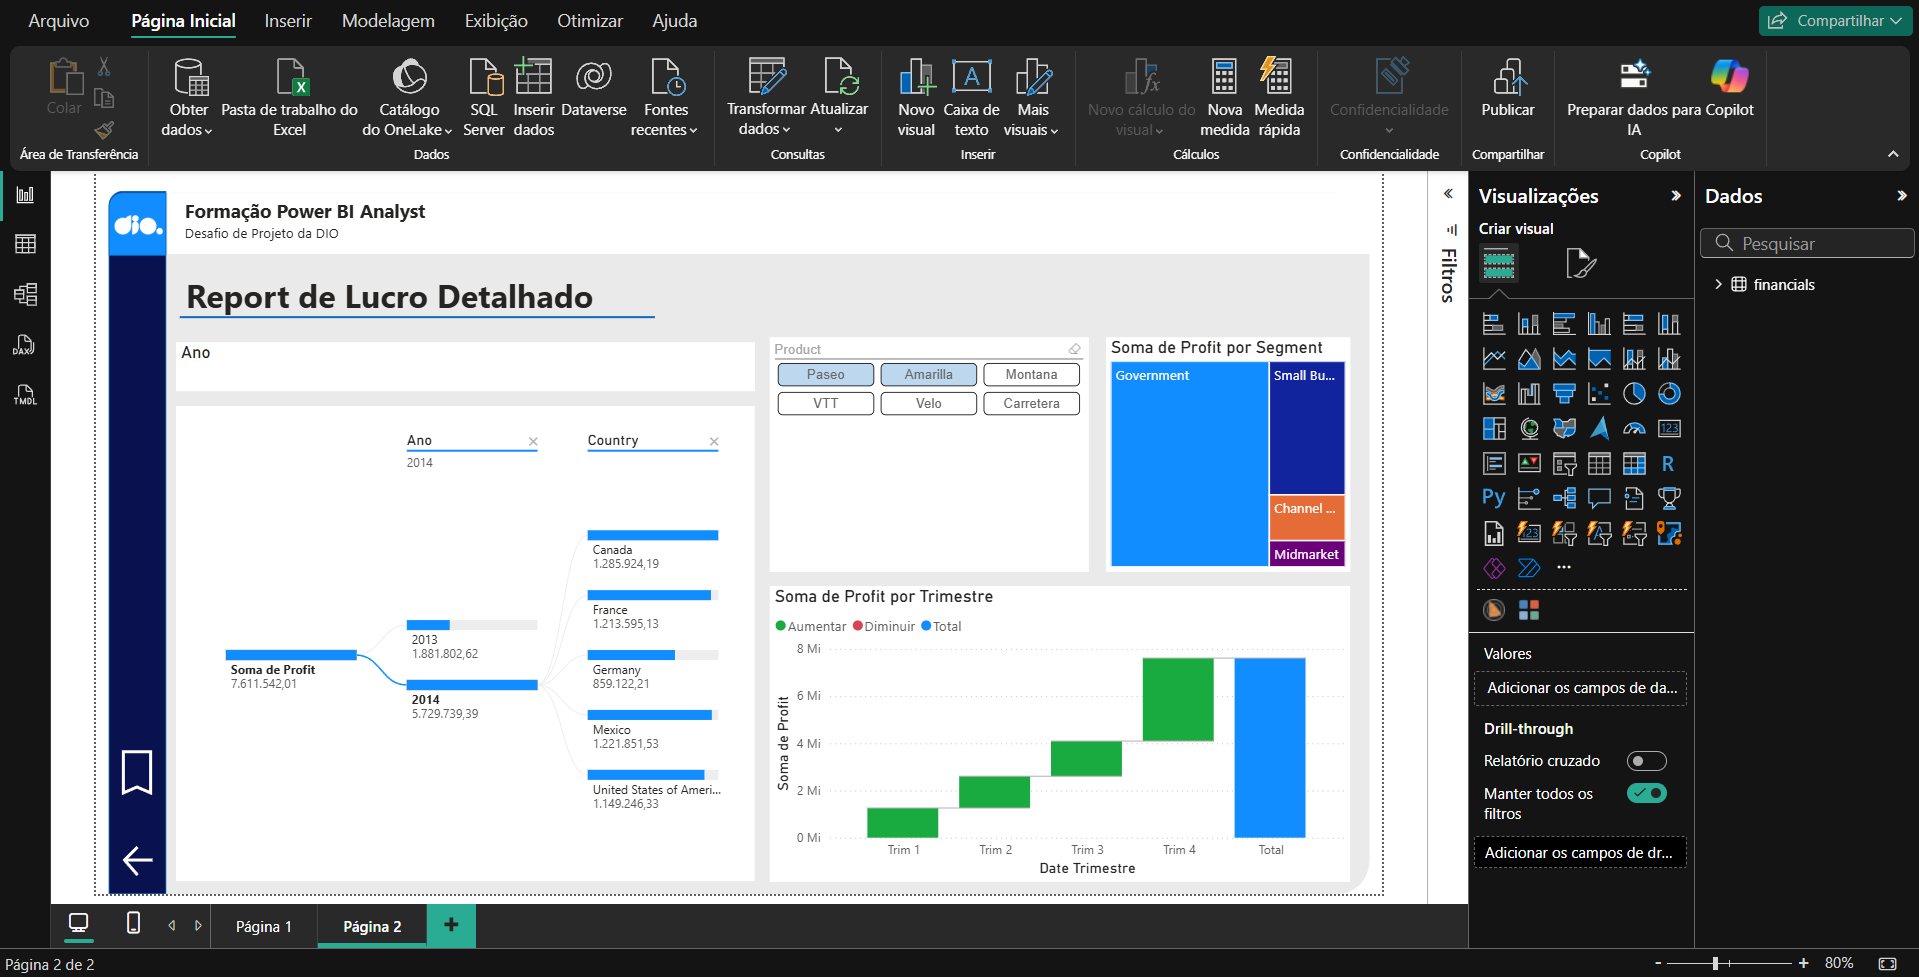

The page's visual inventory and layout, read from the dashboard file:
{"tool":"powerbi","page":{"name":"Página 2","canvas":[1280,720],"ordinal":1},"visuals":[{"type":"shape","box":[42.6,20.7,1225.3,699.3],"z":0},{"type":"shape","box":[83.9,127.8,473,37.1],"z":0,"group":"g1"},{"type":"textbox","box":[85.3,97.6,470.2,52.2],"z":1000,"group":"g1"},{"type":"shape","box":[12.4,20.2,57.7,699.8],"z":1000},{"type":"shape","box":[12.4,20.6,57.7,63.2],"z":2000},{"type":"image","box":[13.7,33,57.7,39.9],"z":3000},{"type":"shape","title":"Fundo do Título","box":[71.5,20.6,1198.9,61.9],"z":4000},{"type":"textbox","title":"Título do report","box":[83.9,22,378.1,63.2],"z":5000},{"type":"shape","box":[79.7,233.7,576.1,473],"z":6000},{"type":"decompositionTreeVisual","fields":{"Analyze":["Sum(financials.Profit)"],"ExplainBy":["financials.Date.Variation.Hierarquia de datas.Ano","financials.Country"]},"box":[99.8,242.2,536.3,456.5],"z":7000},{"type":"waterfallChart","fields":{"Category":["financials.Date.Variation.Hierarquia de datas.Trimestre"],"Y":["Sum(financials.Profit)"]},"box":[670.9,412.5,577.4,294.2],"z":8000},{"type":"RadarChart1446119667547","fields":{"Category":["financials.Date.Variation.Hierarquia de datas.Ano"]},"box":[79.7,170.5,576.1,48.1],"z":9000},{"type":"ChicletSlicer1448559807354","fields":{"Category":["financials.Product"],"Values":["Sum(financials.Profit)"]},"box":[670.9,165,317.6,233.7],"z":10000},{"type":"treemap","fields":{"Values":["Sum(financials.Profit)"],"Group":["financials.Segment"]},"box":[1005,165,243.4,233.7],"z":11000},{"type":"actionButton","box":[22,666.8,48.1,39.9],"z":12000},{"type":"group","id":"g1","title":"Sales report","box":[83.9,97.6,473,67.4],"z":13000},{"type":"actionButton","box":[12.8,545.8,57,105.5],"z":14000}]}

Visuals, with their boxes on the page's 1280x720 design canvas (x1, y1, x2, y2). These are canvas units, not pixel positions in the 1919x977 screenshot, which may show the page scaled, cropped or inside an application window:
shape: x1=43, y1=21, x2=1268, y2=720
shape: x1=84, y1=128, x2=557, y2=165
textbox: x1=85, y1=98, x2=556, y2=150
shape: x1=12, y1=20, x2=70, y2=720
shape: x1=12, y1=21, x2=70, y2=84
image: x1=14, y1=33, x2=71, y2=73
"Fundo do Título" shape: x1=72, y1=21, x2=1270, y2=82
"Título do report" textbox: x1=84, y1=22, x2=462, y2=85
shape: x1=80, y1=234, x2=656, y2=707
decompositionTreeVisual - Sum(financials.Profit) x financials.Date.Variation.Hierarquia de datas.Ano: x1=100, y1=242, x2=636, y2=699
waterfallChart - financials.Date.Variation.Hierarquia de datas.Trimestre x Sum(financials.Profit): x1=671, y1=412, x2=1248, y2=707
RadarChart1446119667547 - financials.Date.Variation.Hierarquia de datas.Ano: x1=80, y1=170, x2=656, y2=219
ChicletSlicer1448559807354 - financials.Product x Sum(financials.Profit): x1=671, y1=165, x2=988, y2=399
treemap - Sum(financials.Profit) x financials.Segment: x1=1005, y1=165, x2=1248, y2=399
actionButton: x1=22, y1=667, x2=70, y2=707
"Sales report" group: x1=84, y1=98, x2=557, y2=165
actionButton: x1=13, y1=546, x2=70, y2=651
